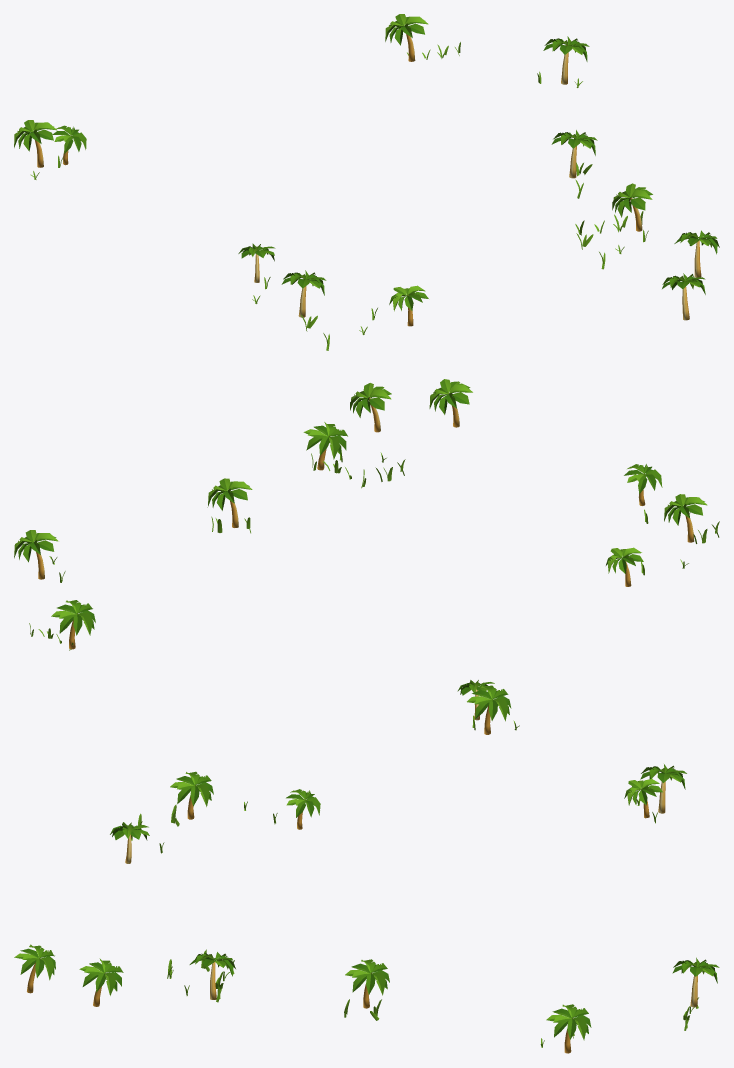
Rendered from Flora_Small_01 (1).fbx.
3 views of the same model, one above another, from view 1: azimuth 30°, elevation 25°; view 2: azimuth 150°, elevation 25°; view 3: azimuth 270°, elevation 25° (orthographic). The views are drawn at different scales.
Visible parts, largest first — view 1: Color_09 (2), Color_09 (3), Color_09 (8), Color_09 (4), Color_09 (5), Color_09 (6), Color_09 (7), Color_09 (10), Color_09 (9), Color_09 (1); view 2: Color_09 (2), Color_09 (3), Color_09 (8), Color_09 (9), Color_09 (10), Color_09 (4), Color_09 (5), Color_09 (7), Color_09, Color_09 (6); view 3: Color_09 (5), Color_09 (4), Color_09 (7), Color_09 (10), Color_09 (9), Color_09 (2), Color_09 (3), Color_09 (1), Color_09 (8), Color_09, Color_09 (6).
Part boxes in pixels (x1,y1,x2,y2): Color_09 (2): (14, 120, 57, 167); Color_09 (3): (385, 14, 428, 61); Color_09 (8): (612, 183, 652, 231); Color_09 (4): (551, 130, 597, 178); Color_09 (5): (543, 36, 589, 84); Color_09 (6): (389, 285, 428, 326); Color_09 (7): (281, 270, 326, 317); Color_09 (10): (674, 230, 719, 277); Color_09 (9): (662, 273, 705, 320); Color_09 (1): (52, 125, 86, 165); Color_09 (2): (467, 685, 511, 734); Color_09 (3): (51, 600, 95, 649); Color_09 (8): (303, 422, 347, 470); Color_09 (9): (429, 379, 472, 427); Color_09 (10): (350, 383, 391, 432); Color_09 (4): (207, 478, 252, 527); Color_09 (5): (14, 530, 58, 579); Color_09 (7): (664, 494, 707, 542); Color_09: (606, 547, 643, 586); Color_09 (6): (624, 464, 662, 505); Color_09 (5): (546, 1004, 591, 1053); Color_09 (4): (345, 959, 389, 1008); Color_09 (7): (170, 771, 213, 819); Color_09 (10): (79, 958, 123, 1006); Color_09 (9): (14, 944, 55, 993); Color_09 (2): (640, 764, 686, 813); Color_09 (3): (672, 957, 719, 1007); Color_09 (1): (624, 779, 662, 818); Color_09 (8): (189, 952, 235, 999); Color_09: (286, 789, 320, 829); Color_09 (6): (110, 822, 149, 863).
Bounding box in the file's own units: 255 × 30.55 × 290.
